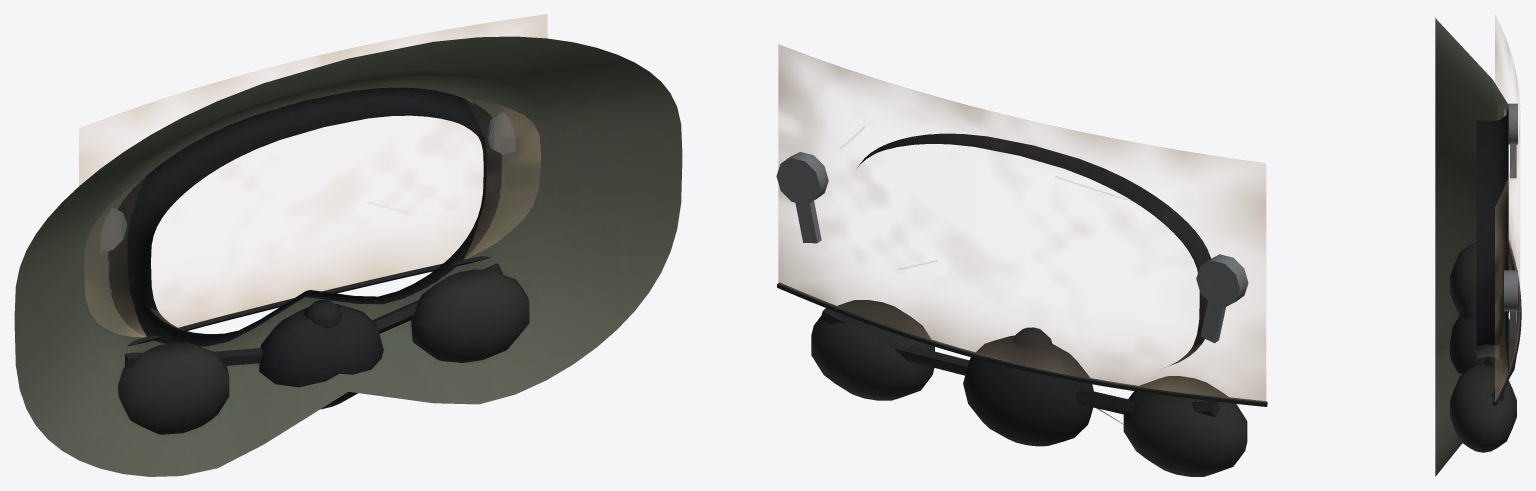
Rendered from helmet_visor_rim.glb.
3 renders of one model, left to right at view 1: azimuth 30°, elevation 25°; view 2: azimuth 150°, elevation 25°; view 3: azimuth 270°, elevation 25°, orthographic. The views are drawn at different scales.
Visible parts, largest first — view 1: lod0, visor_glass; view 2: lod0, visor_glass; view 3: lod0, visor_glass.
Boxes of the visible parts, x1=… form: lod0: x1=14, y1=36, x2=682, y2=476; visor_glass: x1=79, y1=14, x2=547, y2=337; lod0: x1=776, y1=133, x2=1267, y2=476; visor_glass: x1=778, y1=44, x2=1266, y2=402; lod0: x1=1435, y1=18, x2=1521, y2=476; visor_glass: x1=1495, y1=15, x2=1520, y2=401.
Size of the model in its own units: 0.57 by 0.308 by 0.0753.
2 materials, 2 textured.
